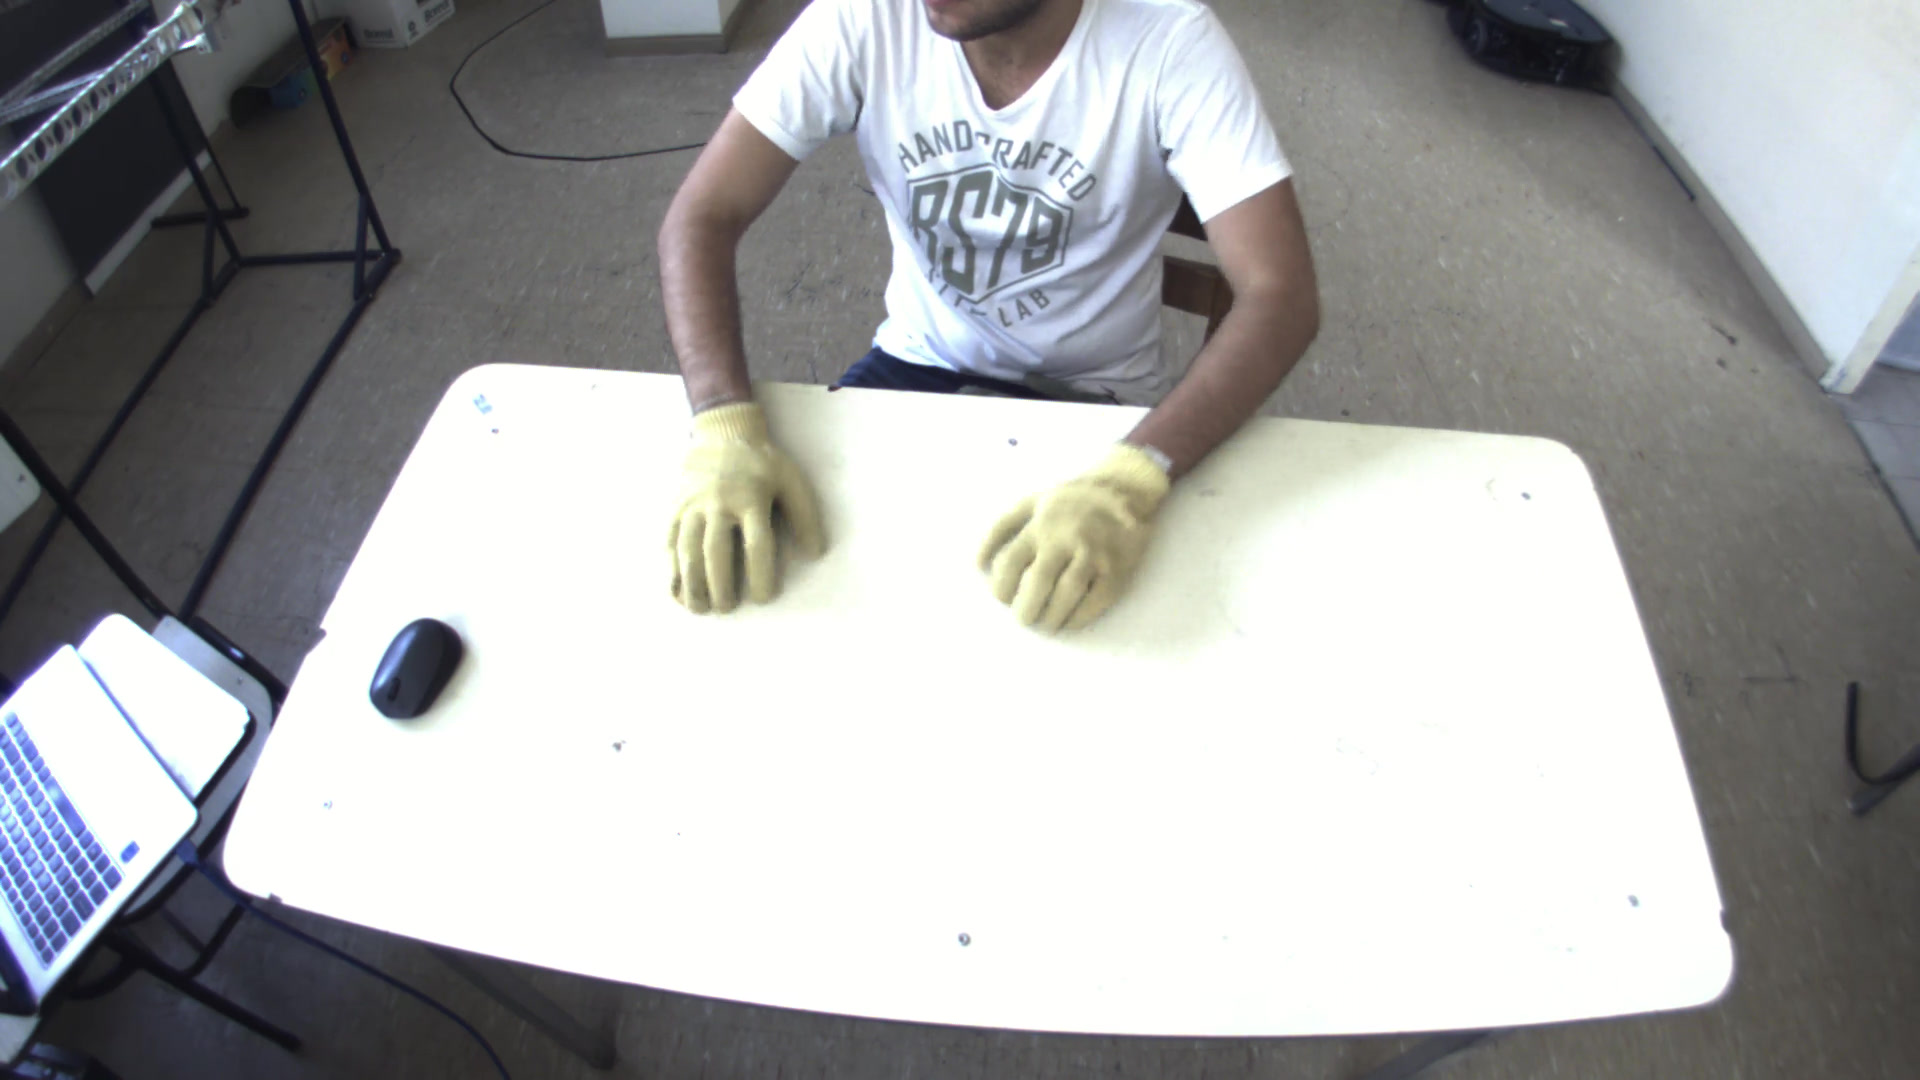hand: (968, 425, 1182, 642), (647, 382, 831, 621)
